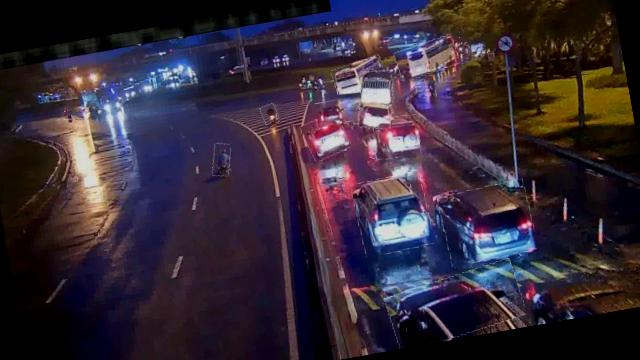Bike: (210, 140, 234, 176), (260, 104, 280, 128), (423, 75, 438, 100)
Bus: (393, 35, 460, 80), (330, 55, 387, 93)
Car: (383, 260, 528, 348), (438, 179, 538, 266), (351, 170, 435, 258), (302, 111, 352, 161), (371, 112, 422, 160), (356, 99, 395, 132), (314, 99, 346, 127)
Truck: (358, 67, 397, 108)
